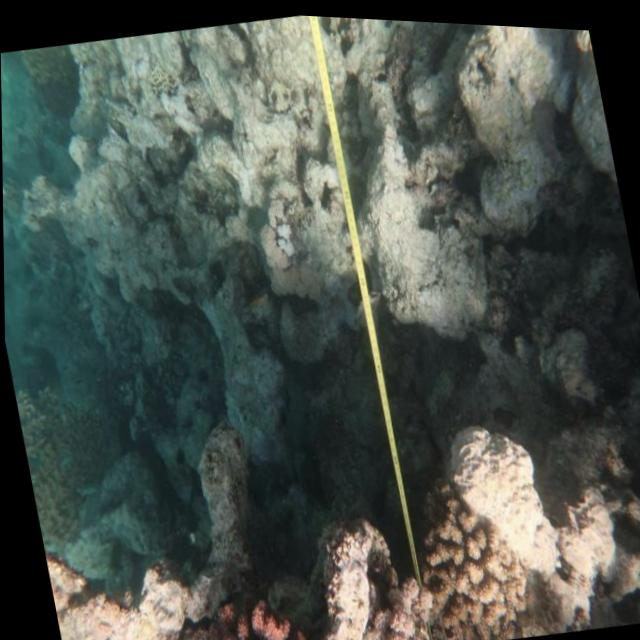Healthy Coral: (401, 473, 536, 640), (198, 589, 313, 640)
